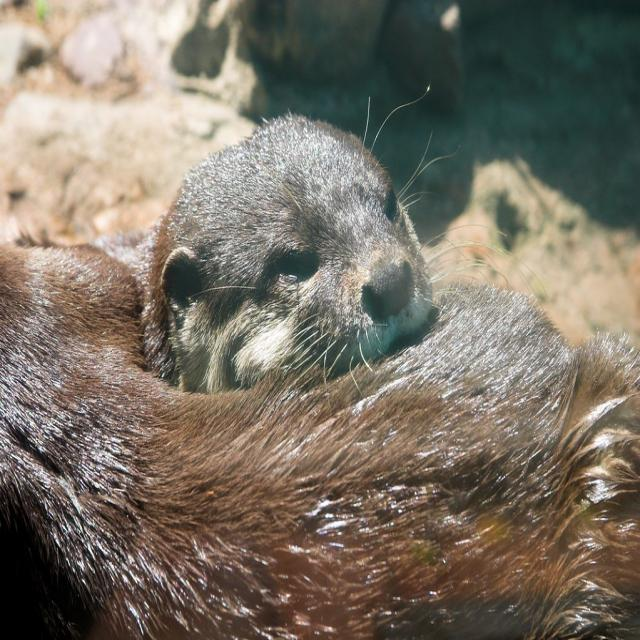otter: (1, 248, 640, 640), (89, 115, 437, 393)
